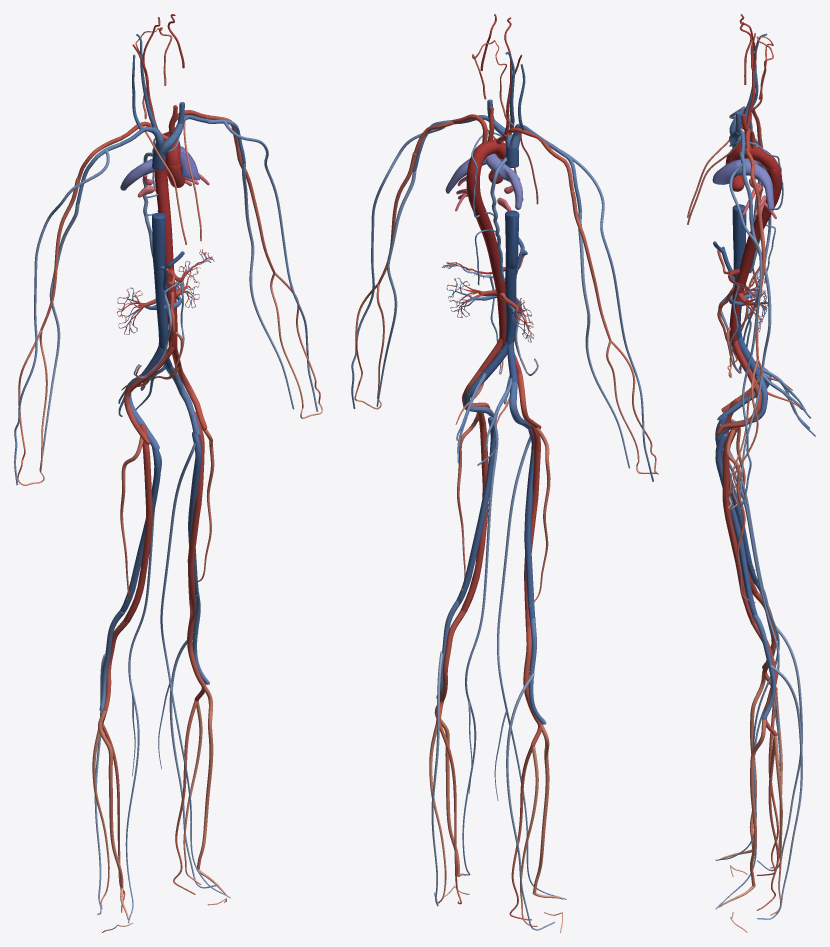
File: vessels.glb
3 renders of one model, left to right at view 1: azimuth 30°, elevation 25°; view 2: azimuth 150°, elevation 25°; view 3: azimuth 270°, elevation 25°, orthographic. The views are drawn at different scales.
Visible parts, largest first — view 1: great-saphenous-veins, femoral-arteries, cephalic-veins, femoral-veins, basilic-veins, anterior-tibial-arteries, inferior-vena-cava, small-saphenous-veins, posterior-tibial-arteries, fibular-arteries, brachial-arteries, deep-femoral-arteries (+10 smaller); view 2: great-saphenous-veins, femoral-veins, femoral-arteries, cephalic-veins, basilic-veins, small-saphenous-veins, inferior-vena-cava, anterior-tibial-arteries, popliteal-arteries, thoracic-aorta, posterior-tibial-arteries, deep-femoral-arteries (+11 smaller); view 3: great-saphenous-veins, femoral-veins, small-saphenous-veins, cephalic-veins, femoral-arteries, anterior-tibial-arteries, thoracic-aorta, basilic-veins, posterior-tibial-arteries, fibular-arteries, inferior-vena-cava, deep-femoral-arteries (+23 smaller).
Part boxes in pixels (<box>): great-saphenous-veins: <box>125,442,230,923</box>; femoral-arteries: <box>123,411,204,622</box>; cephalic-veins: <box>14,120,318,485</box>; femoral-veins: <box>120,432,201,612</box>; basilic-veins: <box>39,163,294,470</box>; anterior-tibial-arteries: <box>98,686,213,888</box>; inferior-vena-cava: <box>152,212,167,350</box>; small-saphenous-veins: <box>94,632,218,914</box>; posterior-tibial-arteries: <box>102,700,197,912</box>; fibular-arteries: <box>92,701,202,909</box>; brachial-arteries: <box>40,141,275,330</box>; deep-femoral-arteries: <box>120,429,214,599</box>; great-saphenous-veins: <box>462,429,566,899</box>; femoral-veins: <box>457,416,535,620</box>; femoral-arteries: <box>460,412,540,627</box>; cephalic-veins: <box>351,127,653,481</box>; basilic-veins: <box>376,171,630,468</box>; small-saphenous-veins: <box>431,651,555,930</box>; inferior-vena-cava: <box>505,210,519,344</box>; anterior-tibial-arteries: <box>434,705,549,893</box>; popliteal-arteries: <box>436,610,541,746</box>; thoracic-aorta: <box>466,169,499,273</box>; posterior-tibial-arteries: <box>439,722,532,920</box>; deep-femoral-arteries: <box>457,413,550,606</box>; great-saphenous-veins: <box>715,421,780,909</box>; femoral-veins: <box>715,416,758,615</box>; small-saphenous-veins: <box>757,626,802,919</box>; cephalic-veins: <box>729,107,762,513</box>; femoral-arteries: <box>722,398,757,624</box>; anterior-tibial-arteries: <box>749,672,765,886</box>; thoracic-aorta: <box>739,166,782,276</box>; basilic-veins: <box>739,215,771,493</box>; posterior-tibial-arteries: <box>756,690,778,910</box>; fibular-arteries: <box>770,690,782,915</box>; inferior-vena-cava: <box>732,204,746,339</box>; deep-femoral-arteries: <box>725,418,755,602</box>.
Bounding box in the file's own units: 2.25 × 6.4 × 0.8434.
